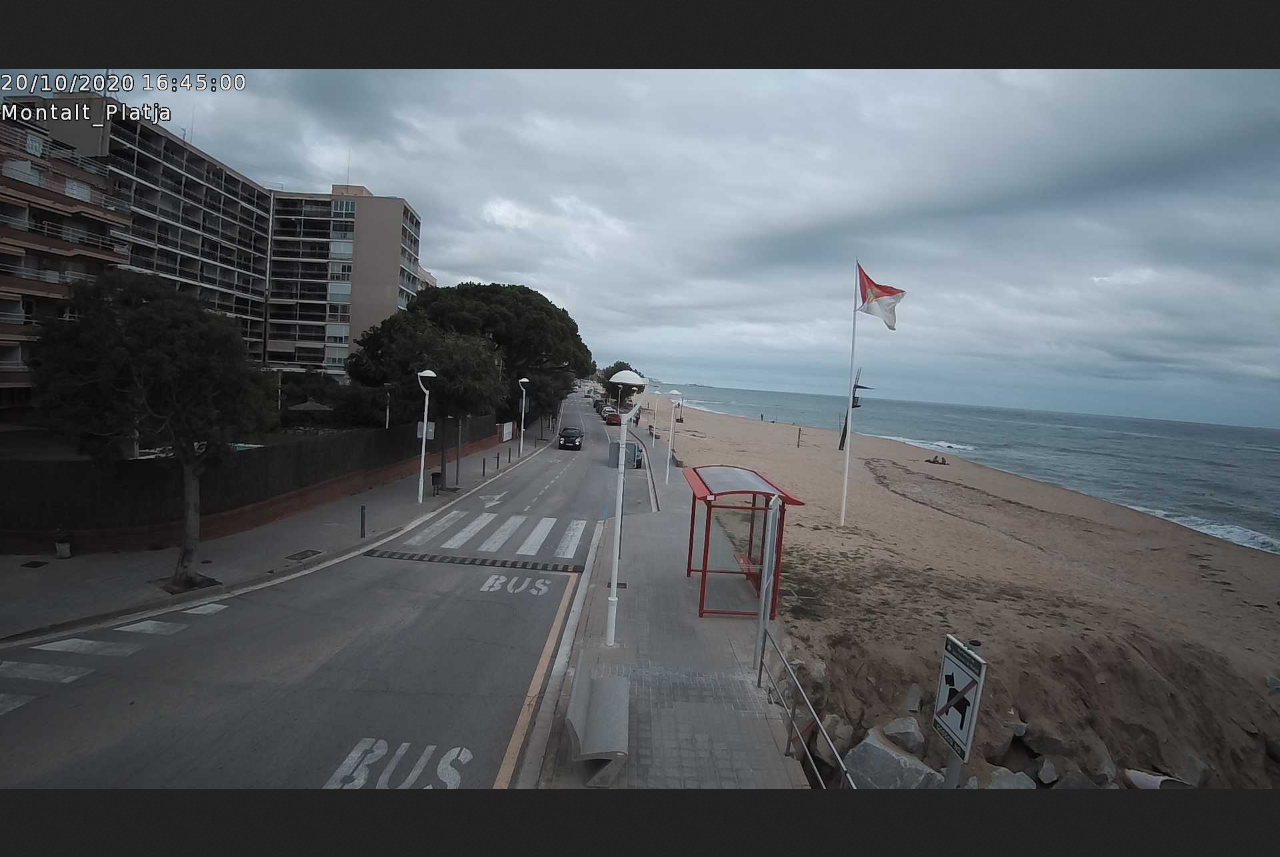maybe: (850, 251, 913, 336)
